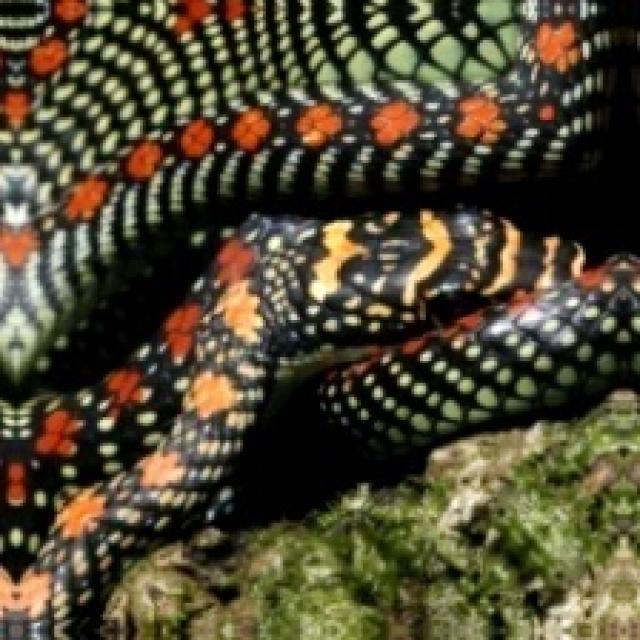paradise tree snake: (0, 0, 637, 637), (26, 211, 637, 637), (0, 0, 637, 391)
